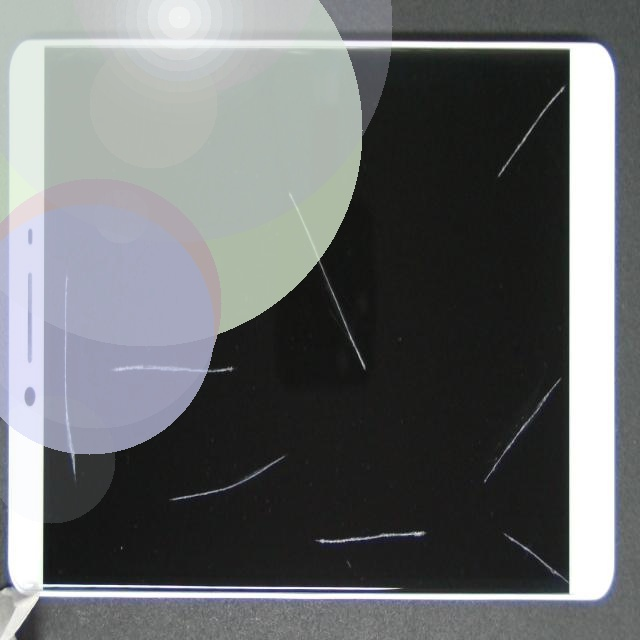scratch: (210, 261, 640, 640), (282, 264, 589, 640), (323, 0, 640, 141), (189, 189, 293, 530)
